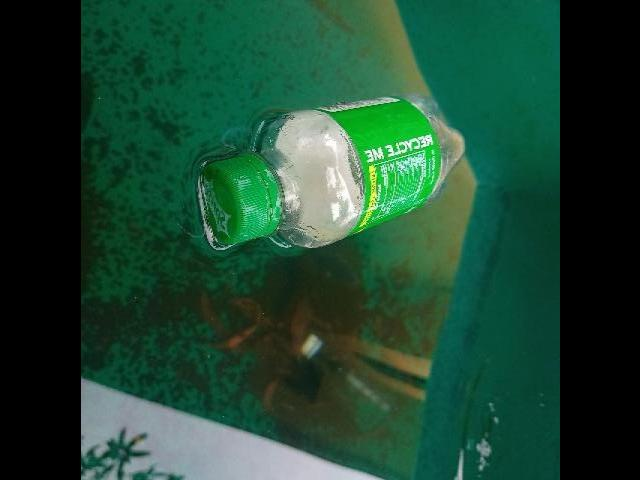Bottle: (186, 94, 464, 253)
